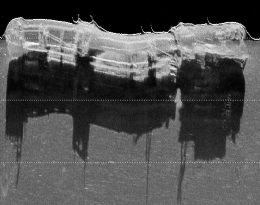ship: (15, 6, 104, 202)
